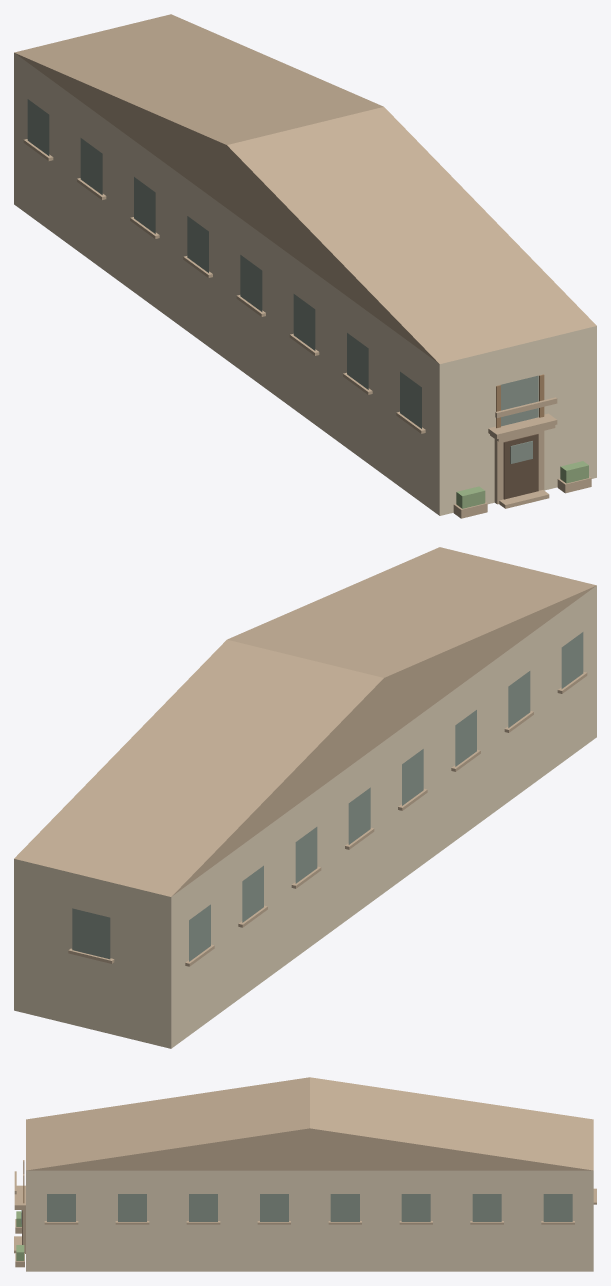
Rendered from residential_1x4_a.glb.
3 views of the same model, one above another, from view 1: azimuth 30°, elevation 25°; view 2: azimuth 150°, elevation 25°; view 3: azimuth 270°, elevation 25° (orthographic). The views are drawn at different scales.
Parts seen in each view (by area): view 1: residential_1x4_a_0; view 2: residential_1x4_a_0; view 3: residential_1x4_a_0.
Part boxes in pixels (left/top/right/bottom): residential_1x4_a_0: left=14, top=14, right=596, bottom=518; residential_1x4_a_0: left=14, top=547, right=596, bottom=1048; residential_1x4_a_0: left=14, top=1077, right=596, bottom=1271.
Bounding box in the file's own units: 6.86 × 8.5 × 31.33.
